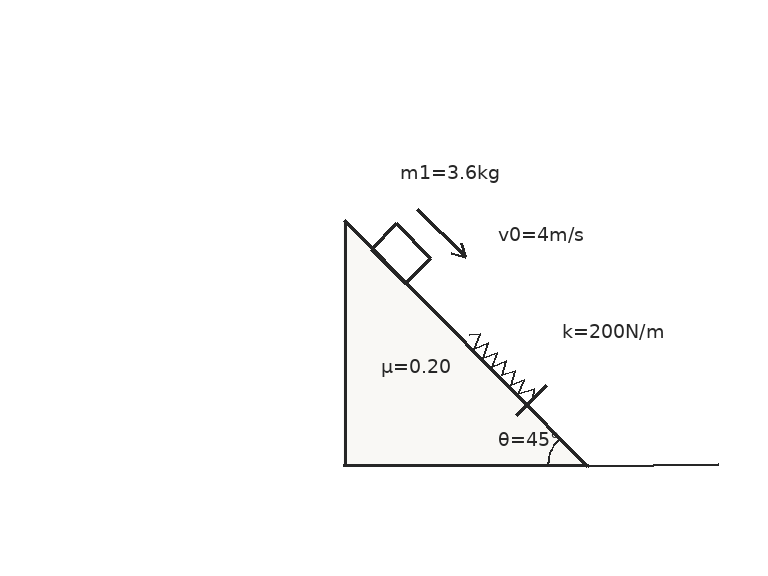block: (368, 221, 432, 285)
ramp: (341, 219, 590, 468)
spring: (468, 332, 536, 400)
